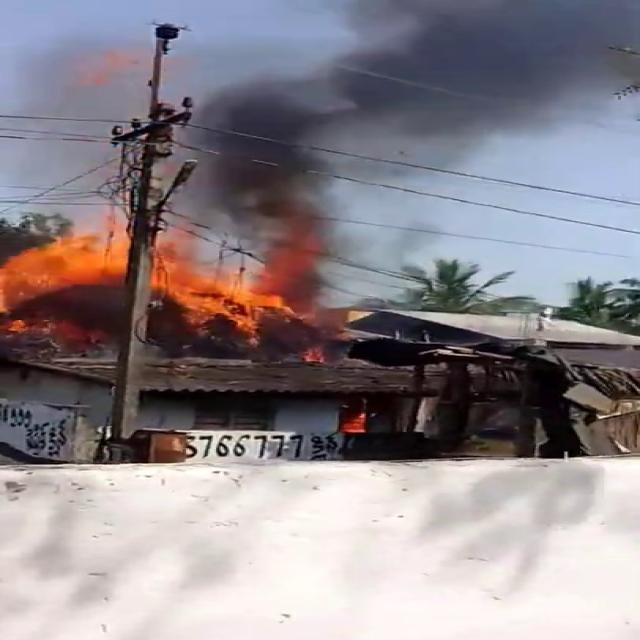Fire: (1, 212, 298, 338)
Smoke: (4, 1, 636, 234)
